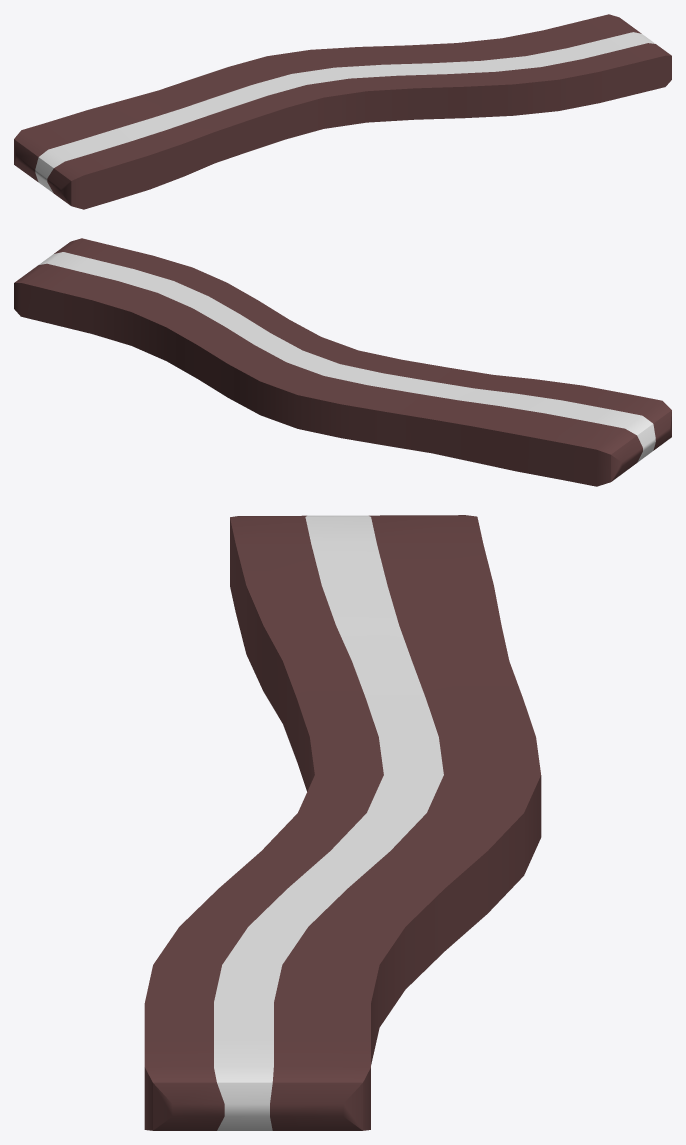
The model's file is Bacon.fbx.
The picture shows the model from 3 angles, top to bottom: view 1: azimuth 30°, elevation 25°; view 2: azimuth 150°, elevation 25°; view 3: azimuth 270°, elevation 25°; orthographic projection. The views are drawn at different scales.
Parts seen in each view (by area): view 1: pCube1; view 2: pCube1; view 3: pCube1.
Boxes of the visible parts, bbox=[...] form: pCube1: bbox=[14, 14, 671, 209]; pCube1: bbox=[14, 238, 671, 486]; pCube1: bbox=[144, 515, 541, 1130].
Size of the model in its own units: 79.2 by 4.43 by 23.14.
